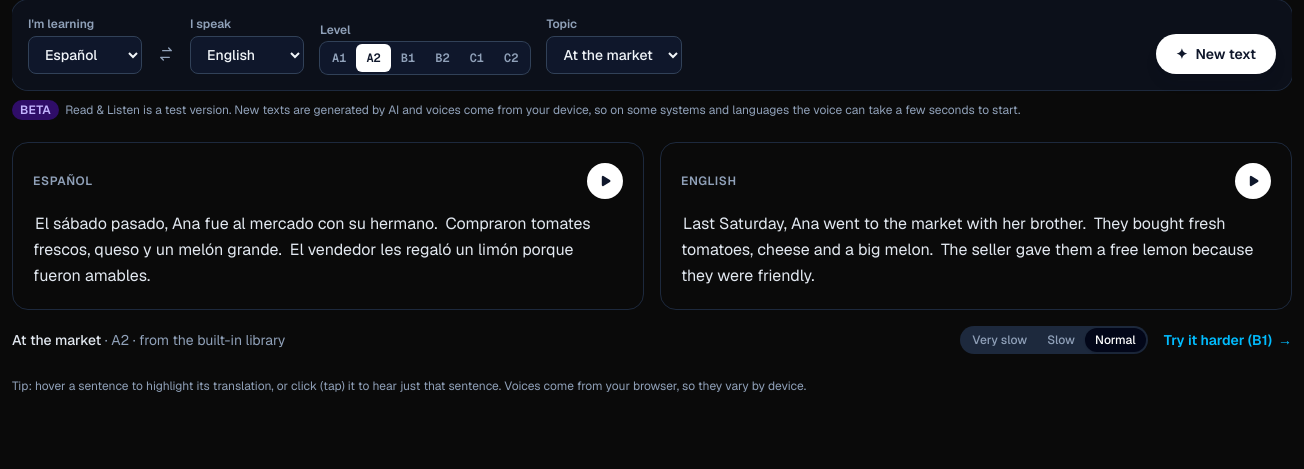
Scenario: Read & Listen page › explains when a built-in text was used because the AI is paused
Click the button "✦ New text" at (1216, 54), box [1156, 34, 1276, 74]
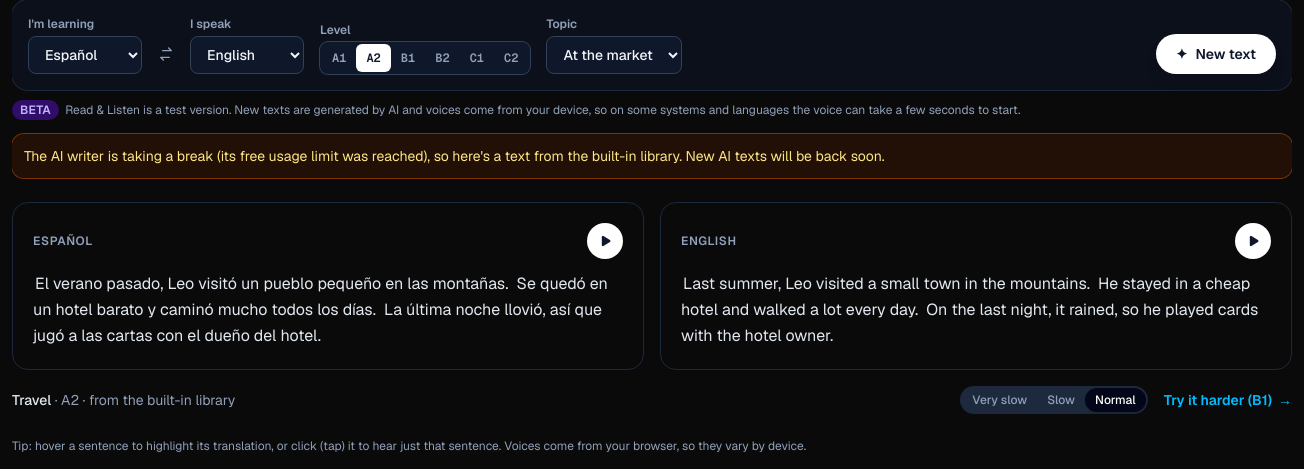
Check: the message shows "taking a break", box [24, 147, 885, 165]
